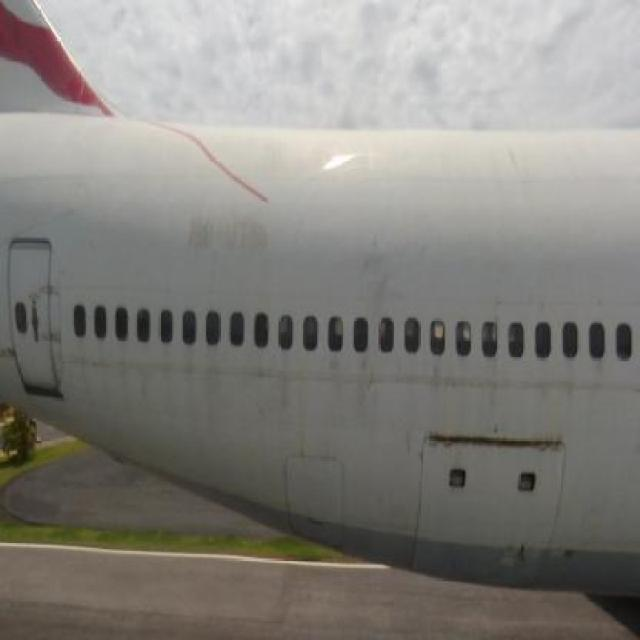Scartch: (422, 421, 575, 467), (179, 213, 281, 264), (358, 242, 405, 303), (0, 339, 20, 363)
